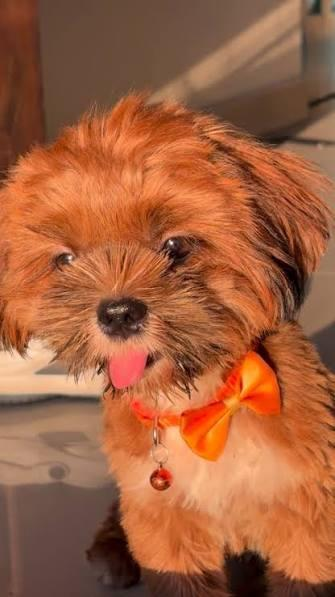puppy-dog: (1, 94, 335, 597)
